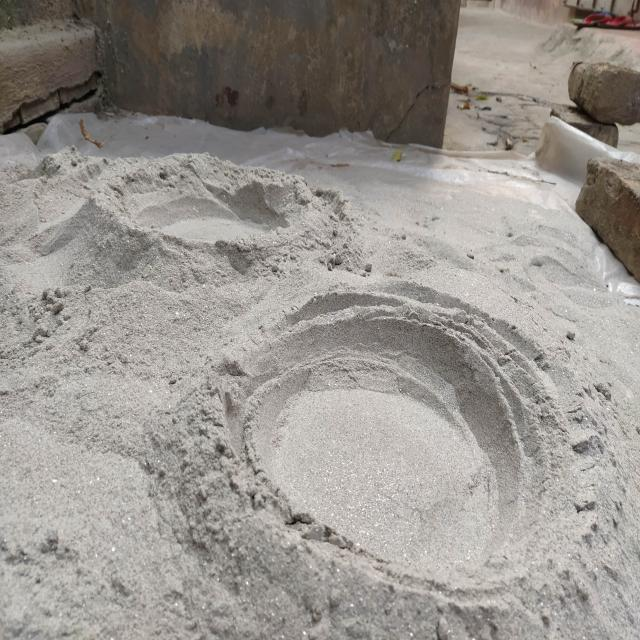C20: (223, 294, 587, 595), (85, 156, 349, 260)
